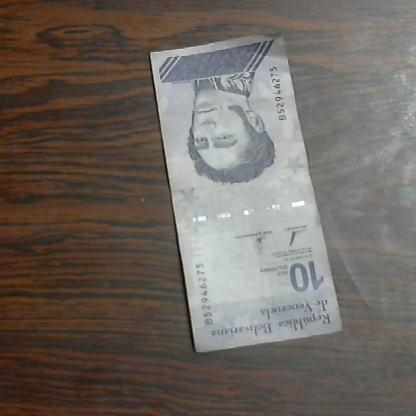ten-front-vef: (150, 34, 344, 354)
